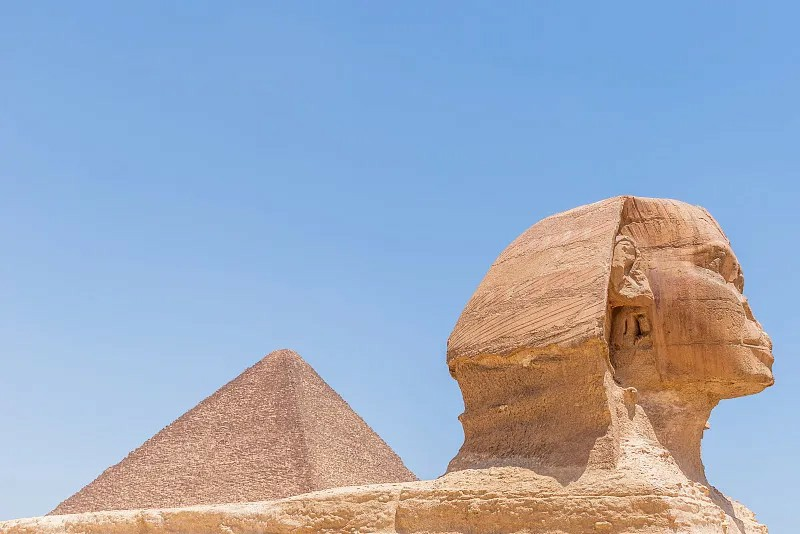Pyramid: (42, 350, 422, 515)
